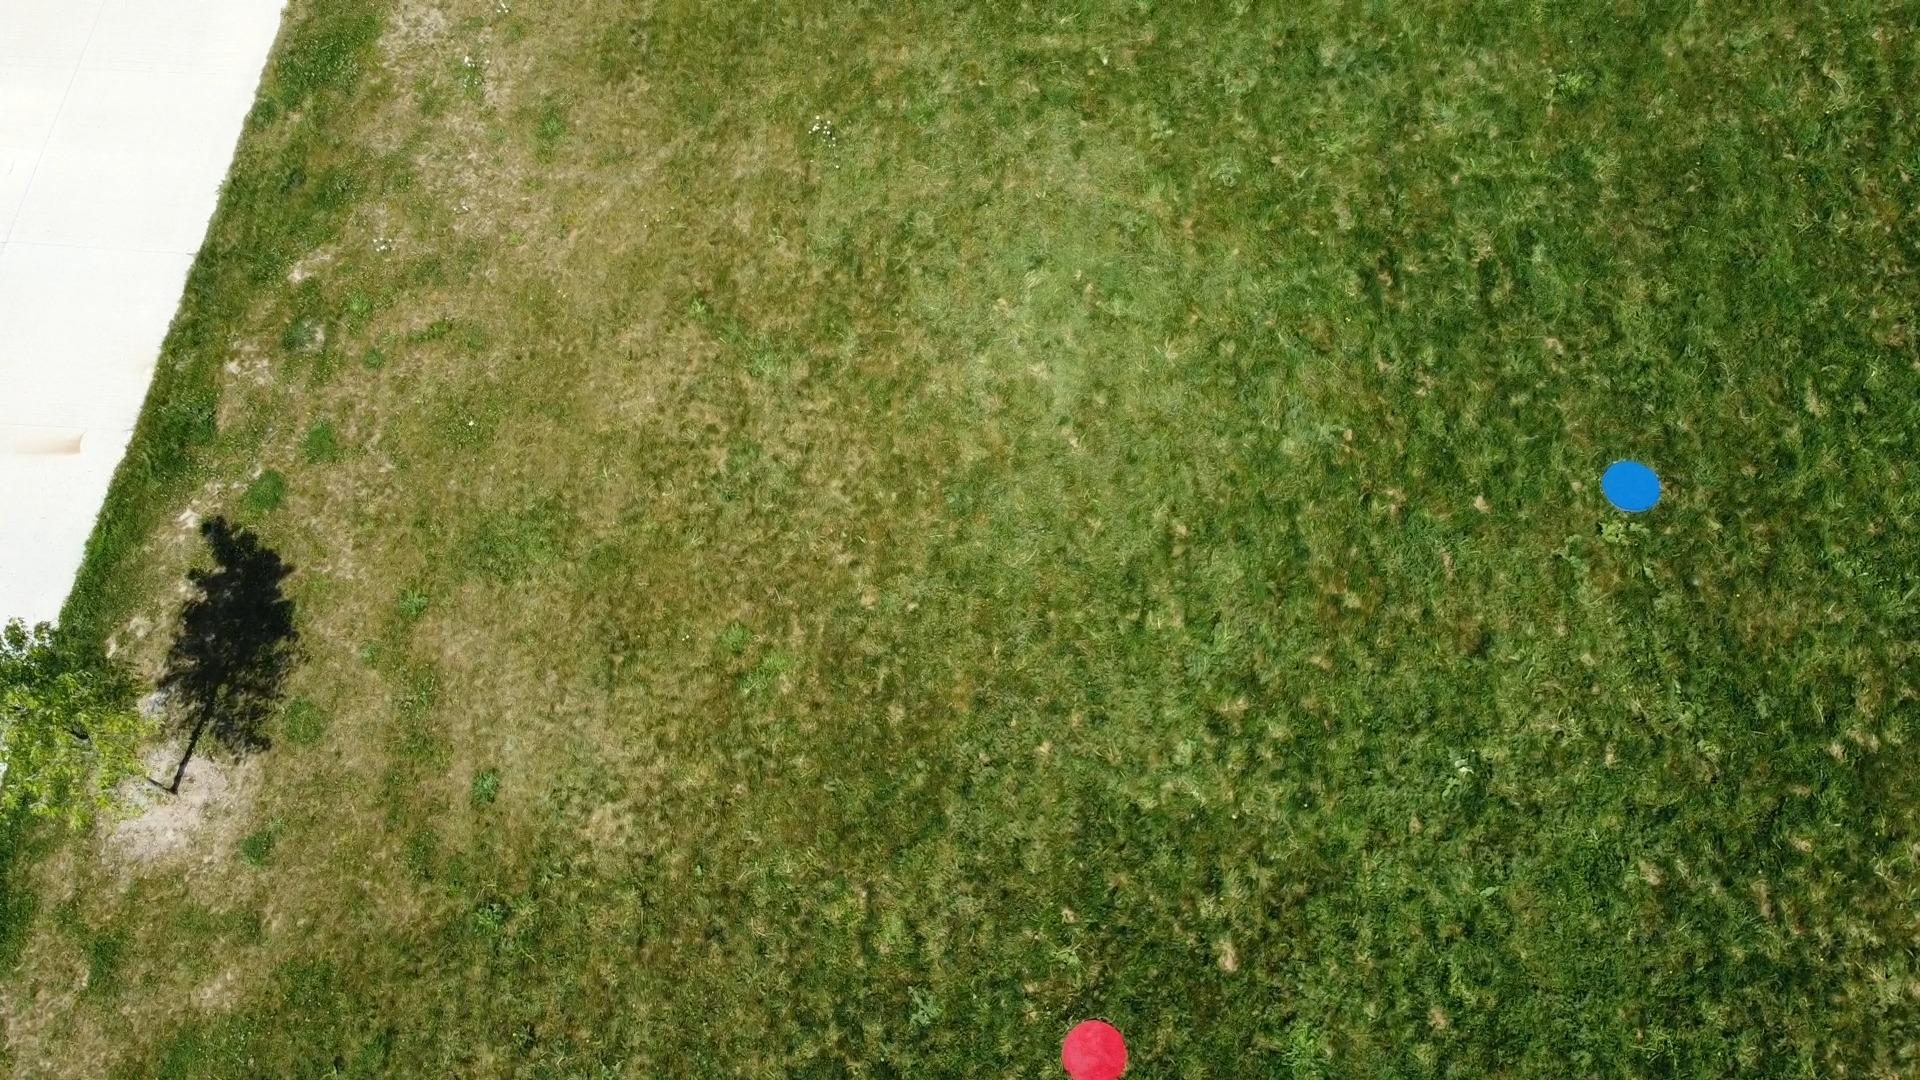Blue: (1600, 458, 1664, 514)
Red: (1059, 1018, 1130, 1080)
